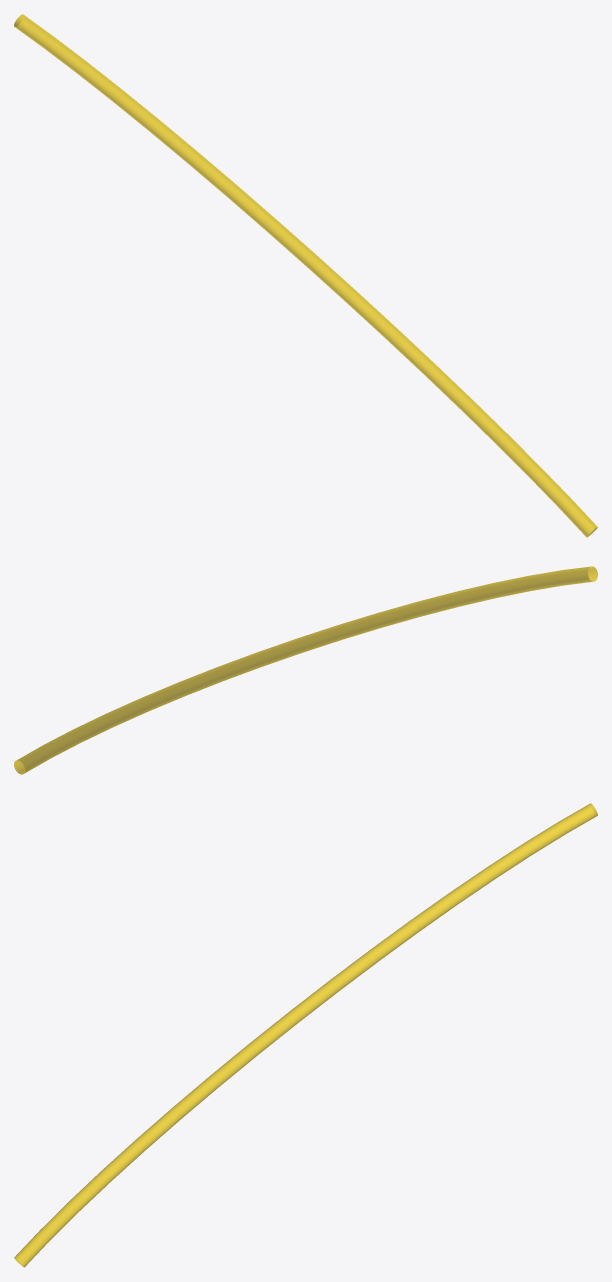
File: Event_84804159_track_102.fbx
The picture shows the model from 3 angles, top to bottom: view 1: azimuth 30°, elevation 25°; view 2: azimuth 210°, elevation 25°; view 3: azimuth 270°, elevation 25°; orthographic projection. The views are drawn at different scales.
Parts seen in each view (by area): view 1: Model; view 2: Model; view 3: Model.
Part boxes in pixels (x1,y1,x2,y2): Model: (14,14,597,537); Model: (14,566,597,774); Model: (14,803,597,1267).
Size of the model in its own units: 0.8348 by 1.04 by 1.61.
